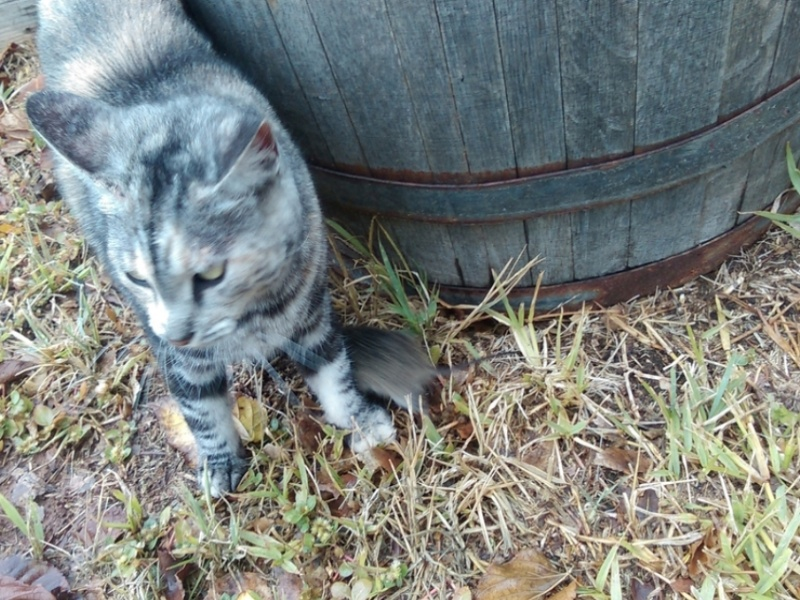cat: (20, 8, 399, 517)
